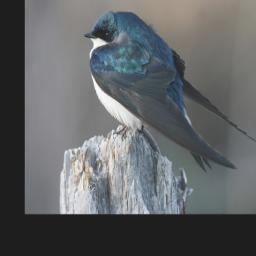Swallow: (85, 10, 256, 172)
